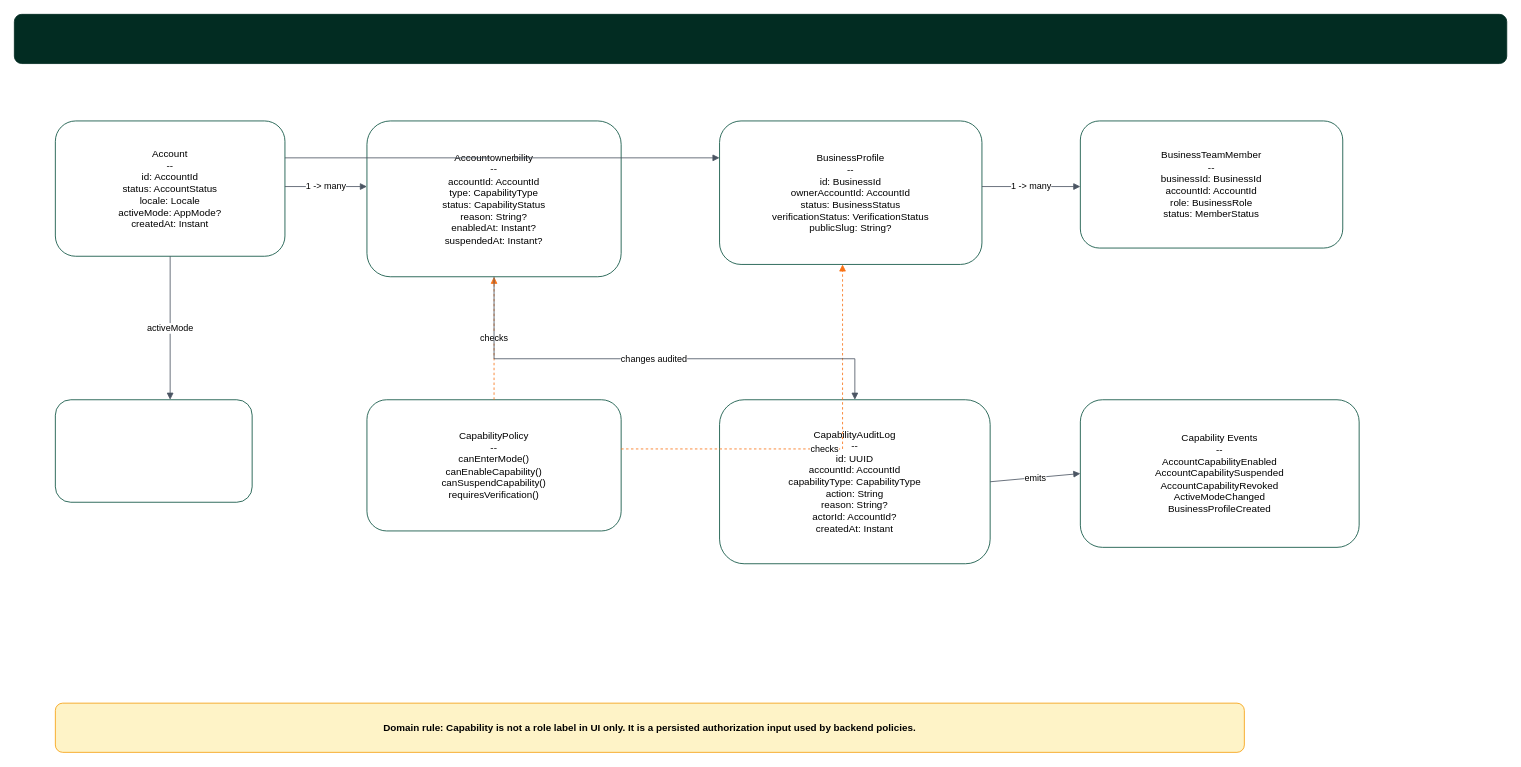
The diagram is 1521 pixels wide and 767 high, and some of its shapes have lost their labels. Each missing label, with the centre of its shape:
"AppMode -- PERSONAL WORK BUSINESS" belongs at (x=153, y=450).
"Viaverse Capability — Class Model" belongs at (x=760, y=39).
